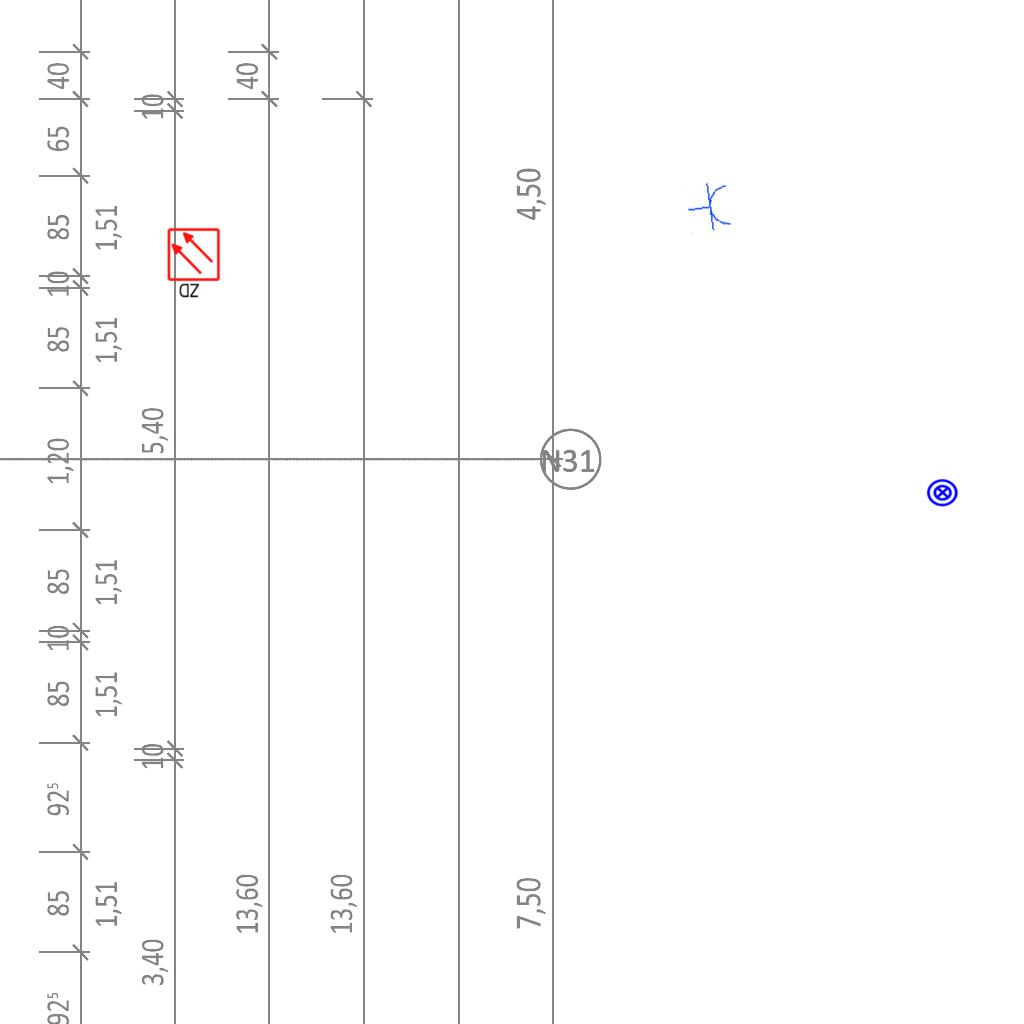Schukosteckdose_einfach: (684, 179, 734, 236)
Taster_beleuchtet: (926, 476, 959, 509)
ZD_Melder_in_Zwischendecke_mit_Revisionsoeffnung_mind_40_x_40_cm: (166, 227, 223, 301)
